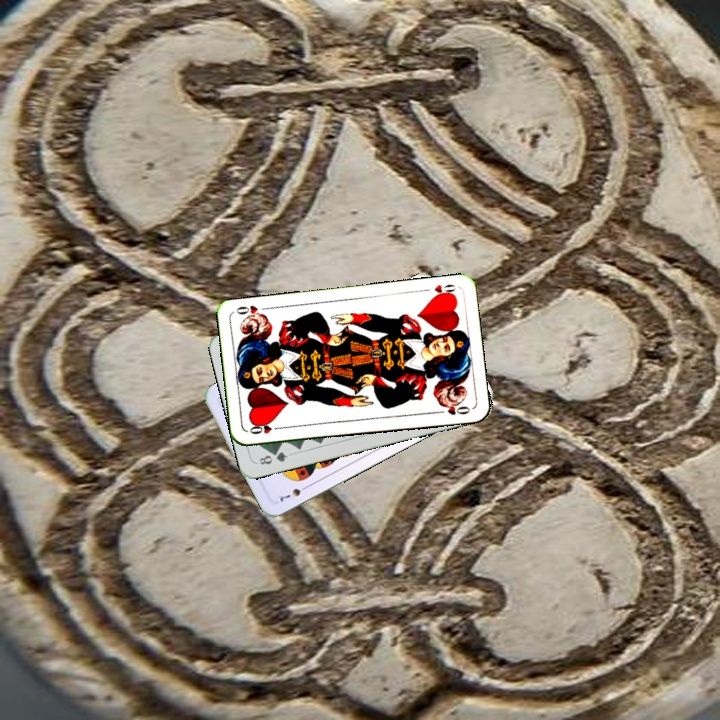G8: (255, 448, 290, 467)
HO: (419, 280, 459, 300), (245, 420, 285, 437)
S7: (274, 481, 312, 504)
